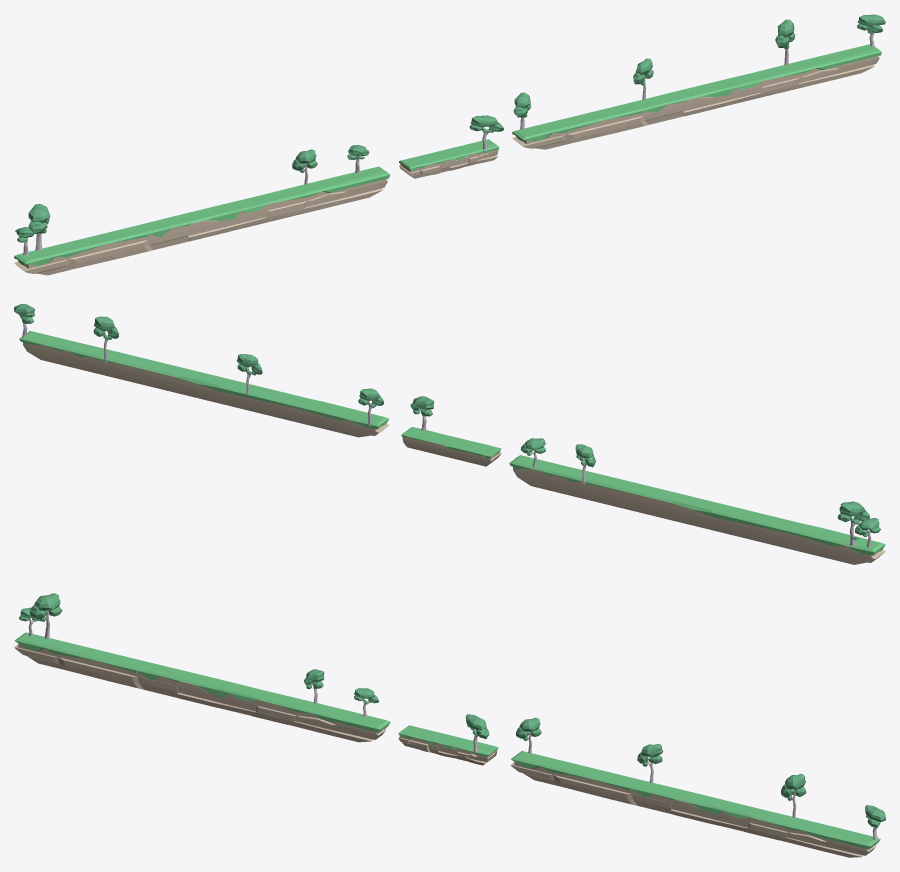
Rendered from Park_Map_lvl_2_2.fbx.
3 renders of one model, top to bottom at view 1: azimuth 30°, elevation 25°; view 2: azimuth 150°, elevation 25°; view 3: azimuth 330°, elevation 25°, orthographic.
Parts seen in each view (by area): view 1: polySurface350; view 2: polySurface350; view 3: polySurface350.
Boxes of the visible parts, x1,y1,x2,y2 form: polySurface350: (14,14,885,275); polySurface350: (14,304,885,564); polySurface350: (14,593,885,857).
Size of the model in its own units: 333 by 23.99 by 16.1.
